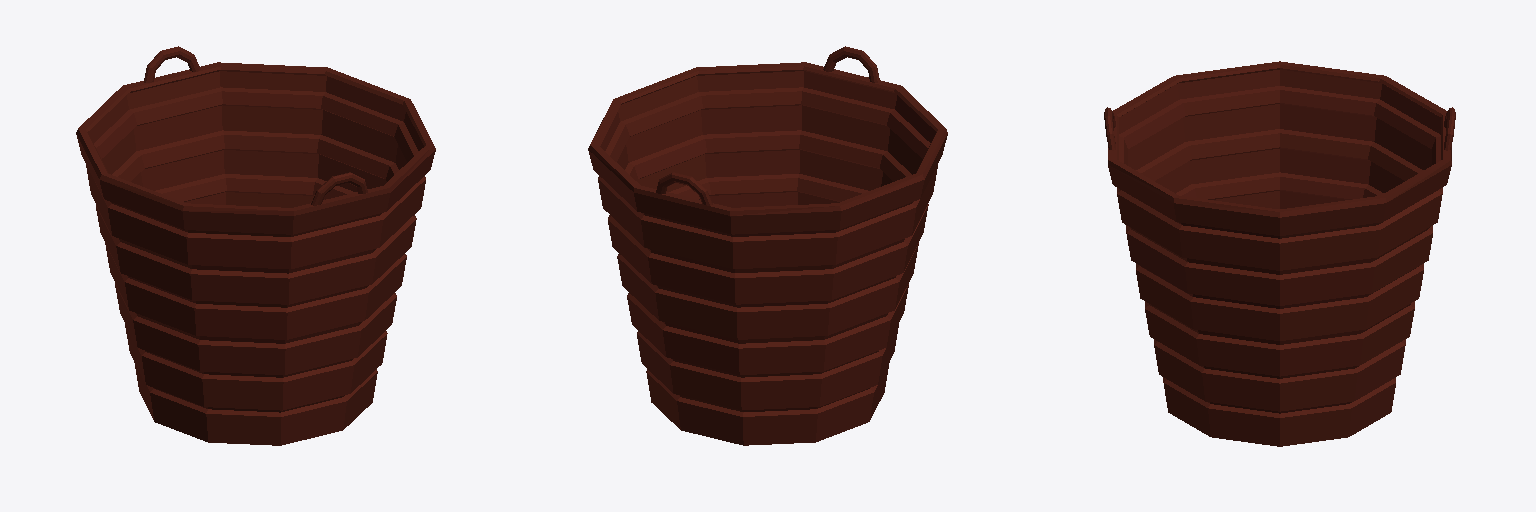
File: Basket.obj
The picture shows the model from 3 angles: view 1: azimuth 30°, elevation 25°; view 2: azimuth 150°, elevation 25°; view 3: azimuth 270°, elevation 25°; orthographic projection.
Parts seen in each view (by area): view 1: Basket pCylinder17, pTorus1 Basket, Basket pTorus2; view 2: Basket pCylinder17, Basket pTorus2, pTorus1 Basket; view 3: Basket pCylinder17.
Boxes of the visible parts, x1=… form: Basket pCylinder17: x1=76, y1=62, x2=435, y2=445; pTorus1 Basket: x1=144, y1=46, x2=200, y2=82; Basket pTorus2: x1=311, y1=172, x2=367, y2=205; Basket pCylinder17: x1=588, y1=62, x2=947, y2=445; Basket pTorus2: x1=823, y1=46, x2=879, y2=82; pTorus1 Basket: x1=656, y1=172, x2=712, y2=205; Basket pCylinder17: x1=1108, y1=61, x2=1451, y2=446.
Bounding box in the file's own units: 116 × 102 × 112.